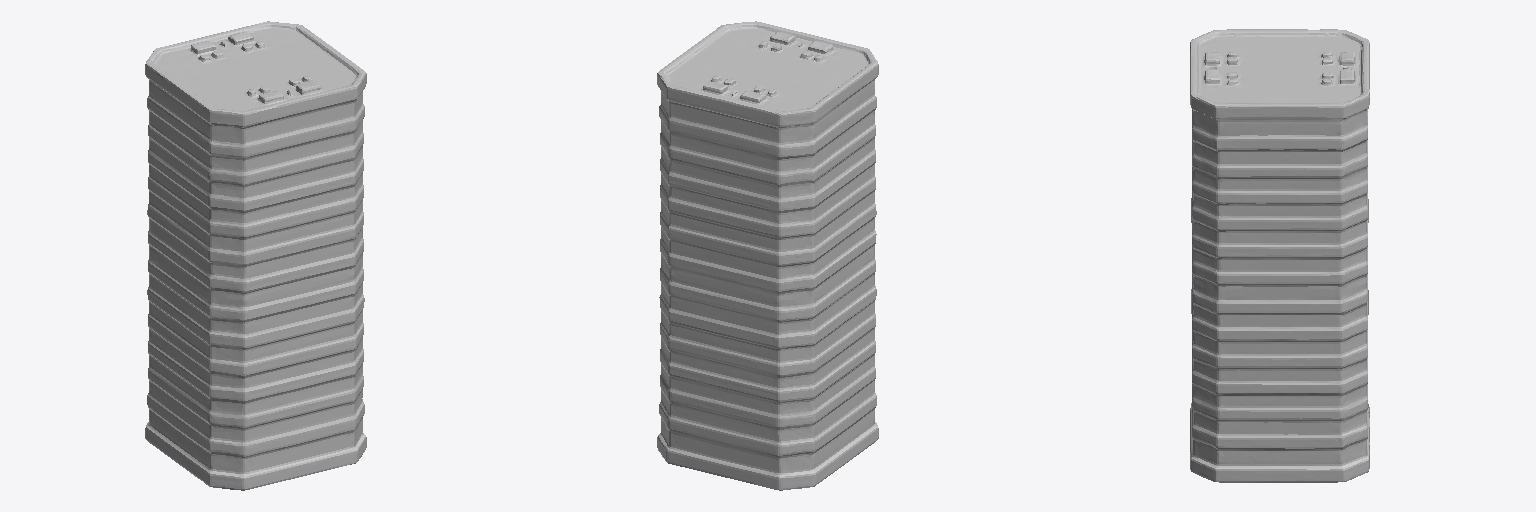
Rendered from EdificioLetrero.obj.
3 renders of one model, left to right at view 1: azimuth 30°, elevation 25°; view 2: azimuth 150°, elevation 25°; view 3: azimuth 270°, elevation 25°, orthographic.
Visible parts, largest first — view 1: Mesh_0; view 2: Mesh_0; view 3: Mesh_0.
Boxes of the visible parts, <box> form: Mesh_0: <box>145,21,366,490</box>; Mesh_0: <box>657,21,878,490</box>; Mesh_0: <box>1190,29,1369,482</box>.
Bounding box in the file's own units: 0.8647 × 2.01 × 0.8522.